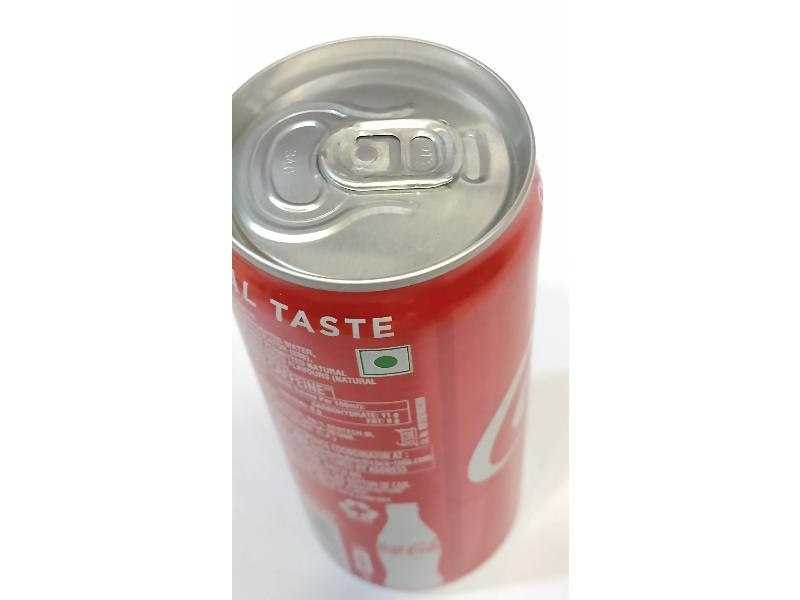can: (232, 33, 548, 594)
